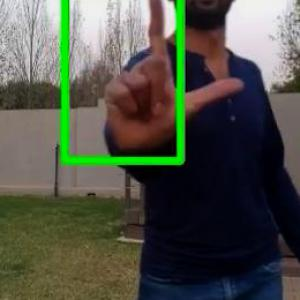land_hand: (100, 0, 248, 154)
